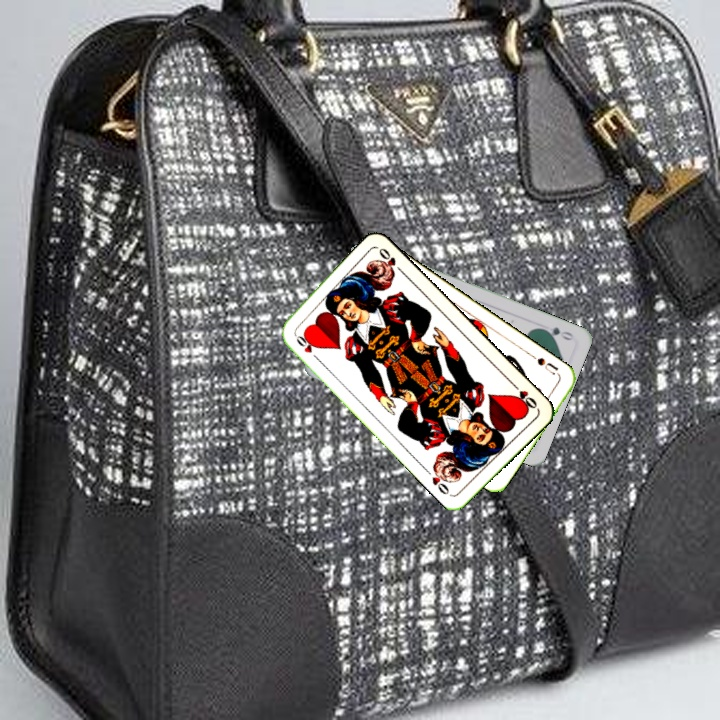GO: (536, 323, 576, 343)
HO: (508, 379, 540, 412), (290, 329, 319, 356)
SU: (527, 351, 562, 379)
